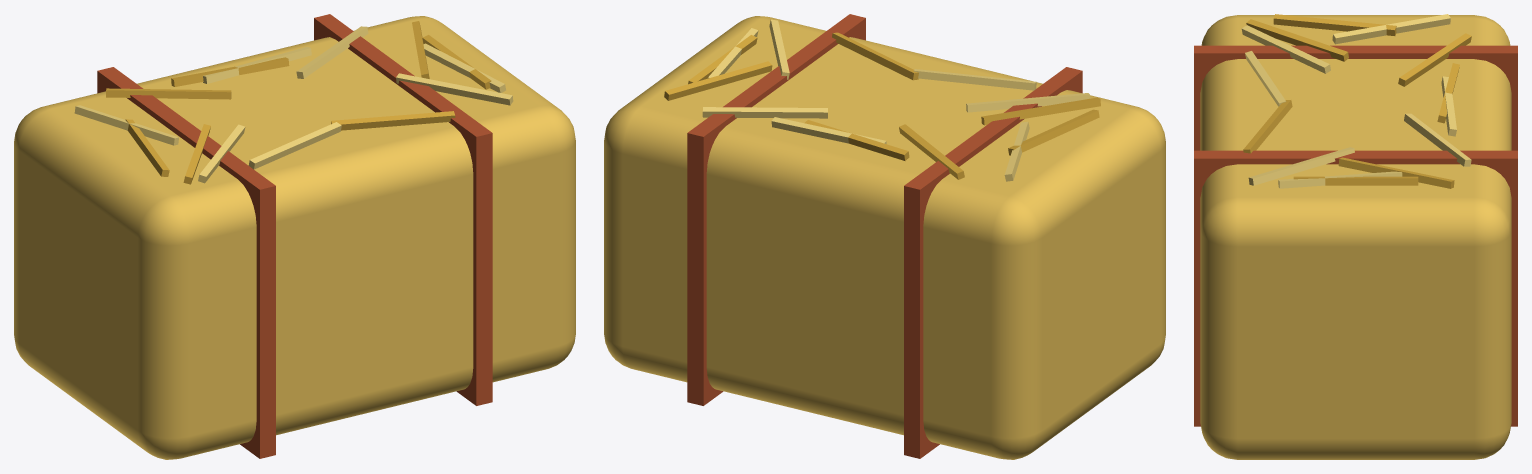
Rendered from stump-hay.glb.
3 views of the same model, side by side, from view 1: azimuth 30°, elevation 25°; view 2: azimuth 150°, elevation 25°; view 3: azimuth 270°, elevation 25° (orthographic).
Size of the model in its own units: 0.8 by 0.4821 by 0.52.
